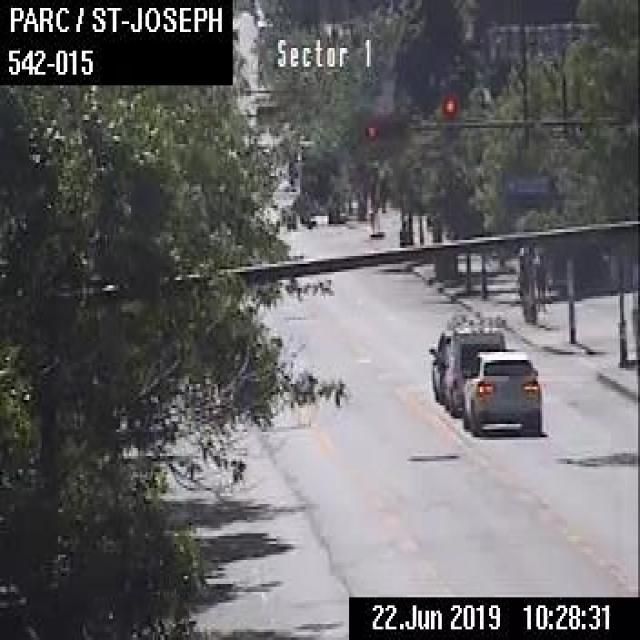vehicle: (460, 348, 540, 435), (444, 326, 504, 414), (426, 328, 444, 402)
